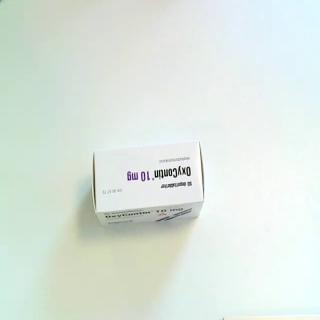oxycontin10mg: (91, 139, 205, 229)
